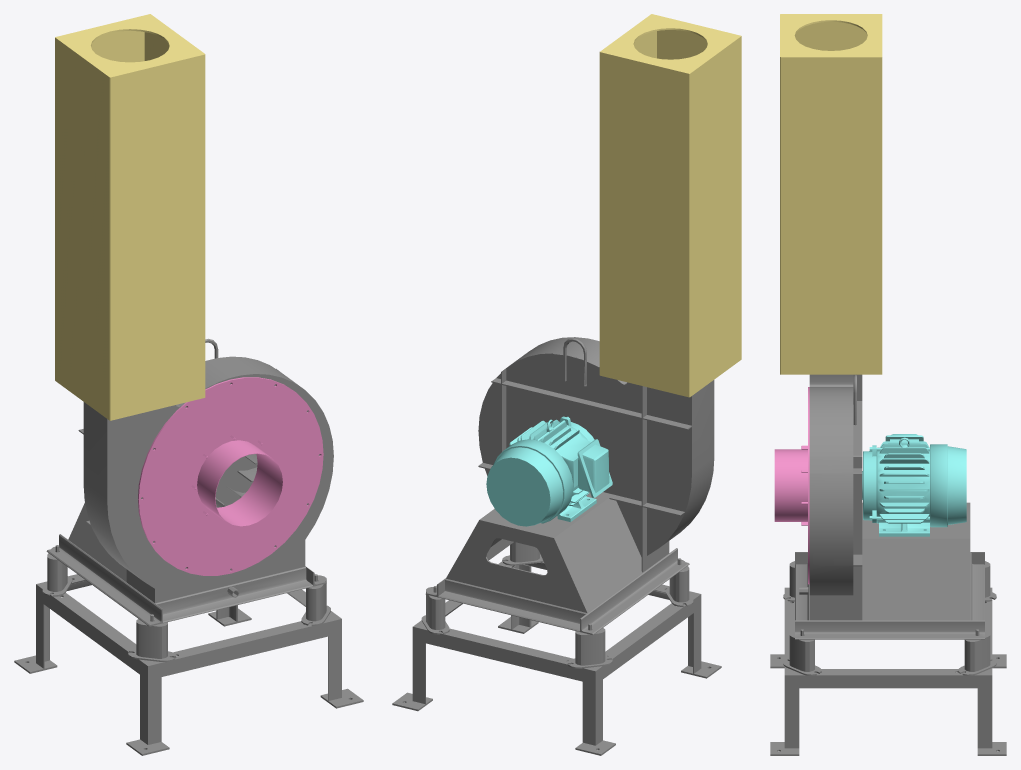
The model's file is Wind.fbx.
3 renders of one model, left to right at view 1: azimuth 30°, elevation 25°; view 2: azimuth 150°, elevation 25°; view 3: azimuth 270°, elevation 25°, orthographic. The views are drawn at different scales.
Visible parts, largest first — view 1: Wind; view 2: Wind; view 3: Wind.
Boxes of the visible parts, box(x1,y1,x2,y2) form: Wind: box(14, 14, 363, 755); Wind: box(392, 14, 741, 755); Wind: box(770, 14, 1006, 755).
Bounding box in the file's own units: 90.8 × 81 × 238.
